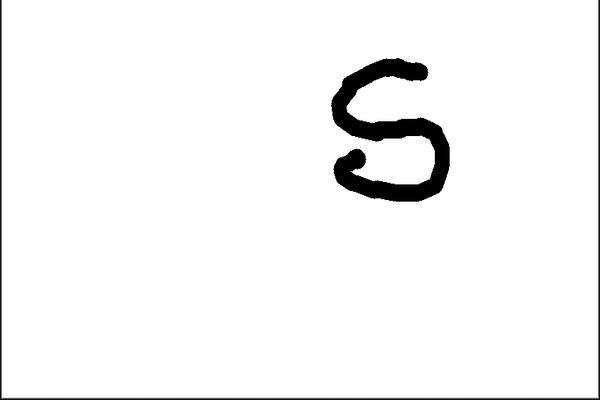S: (321, 47, 454, 212)
